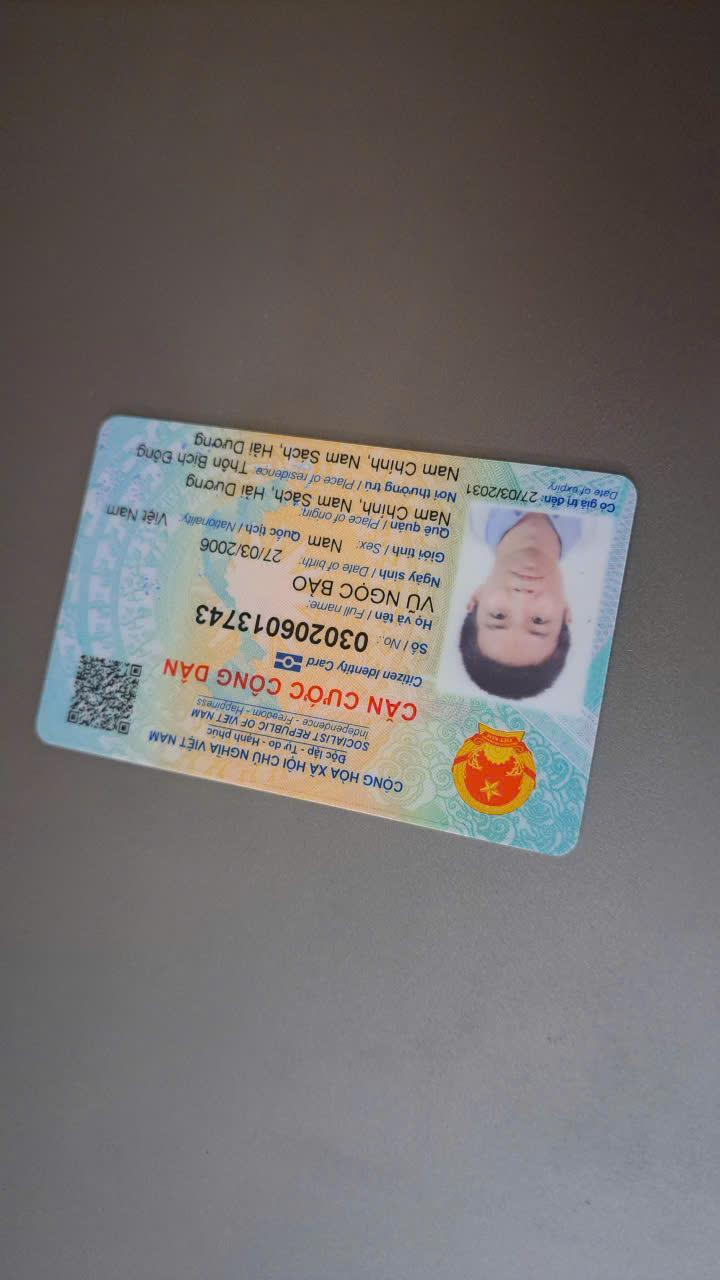cccd: (30, 405, 645, 868)
